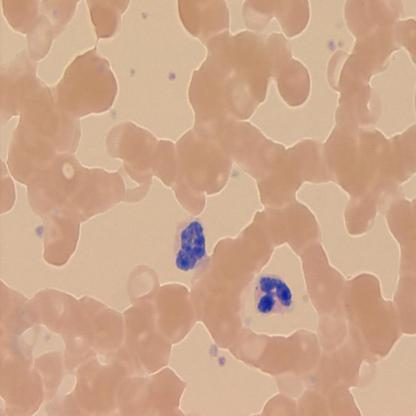Segmented neutrophil: (251, 272, 293, 316)
